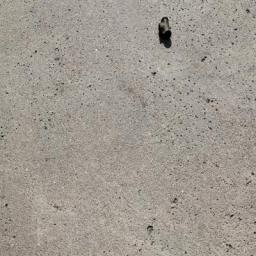FOD: (154, 16, 179, 50)
